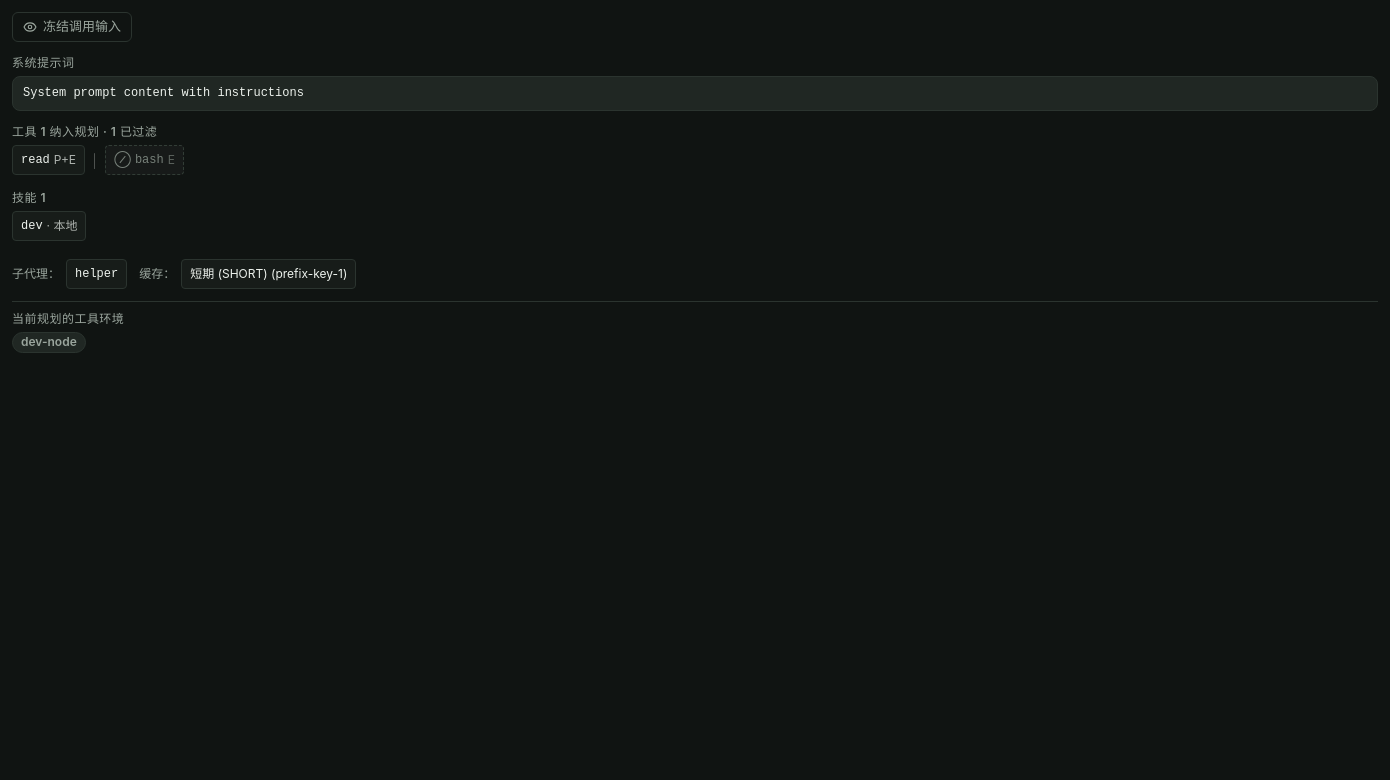
it: ThreadModelRequestDebug & Inspector › Request Snapshot rendering and inspector defense › renders Request Snapshot button only when frozenInvocation exists
Click the button with aria-label "查看当前调用冻结的规范化 ProviderRequest（非 HTTP 原始报文）".
click(72, 27)  # box x1=12 y1=12 x2=132 y2=42
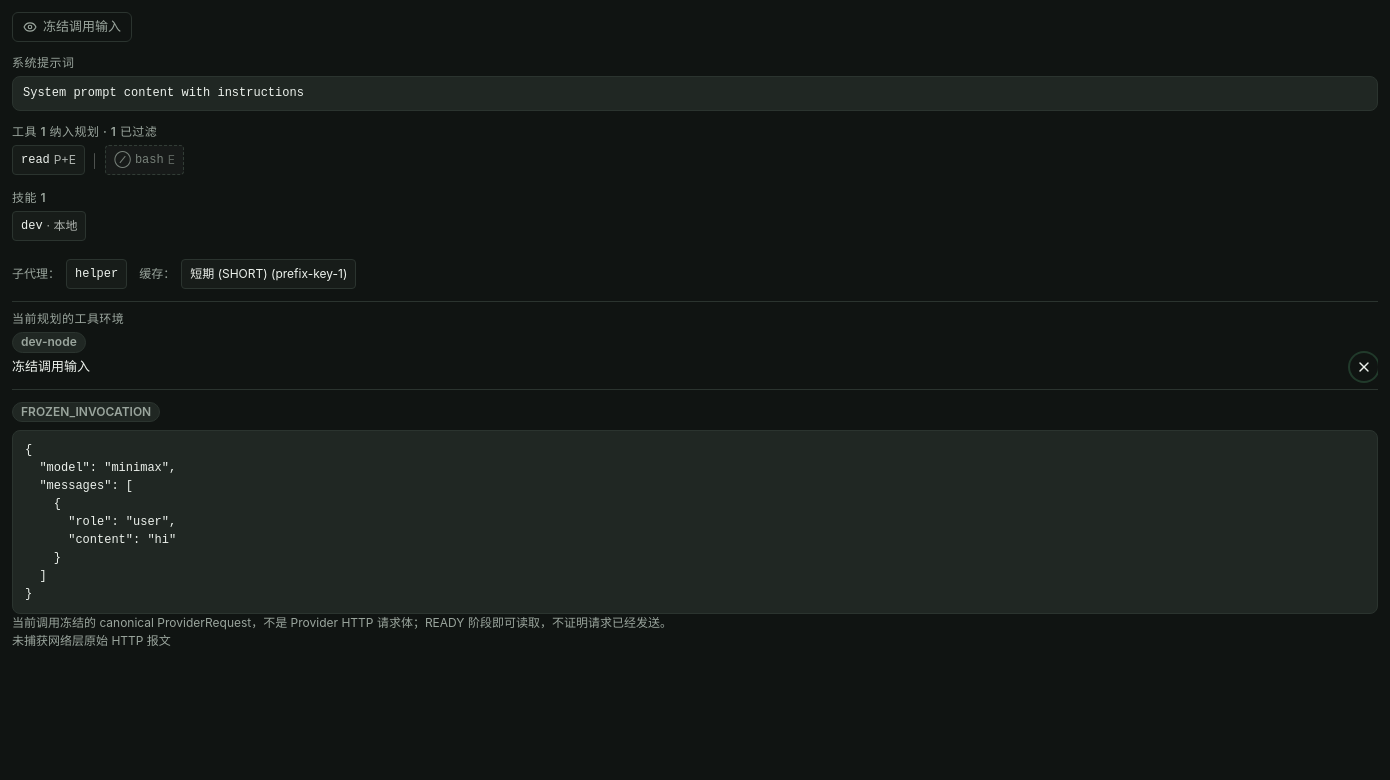
Expected: the heading "冻结调用输入" is shown, x1=12 y1=357 x2=90 y2=376
Expected: the text with test id "frozen-request-json" shows "\"model\": \"minimax\"", x1=25 y1=443 x2=176 y2=601
Expected: the text with test id "frozen-request-json" shows "\"content\": \"hi\"", x1=25 y1=443 x2=176 y2=601
